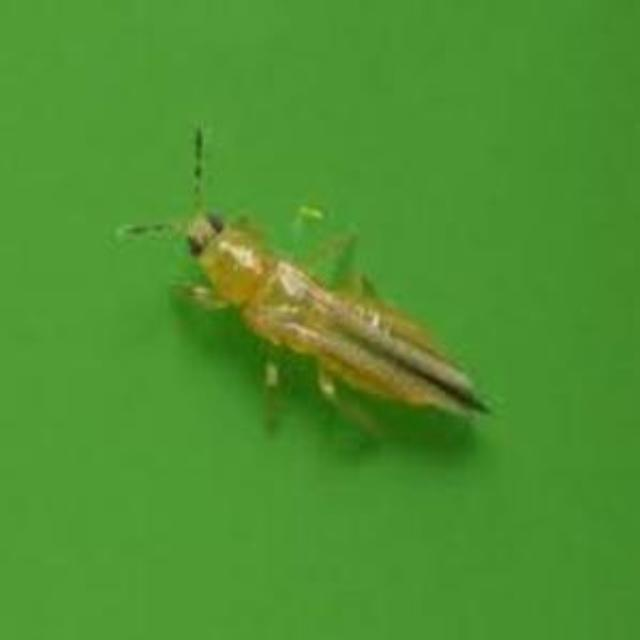melon thrips: (85, 118, 522, 500)
